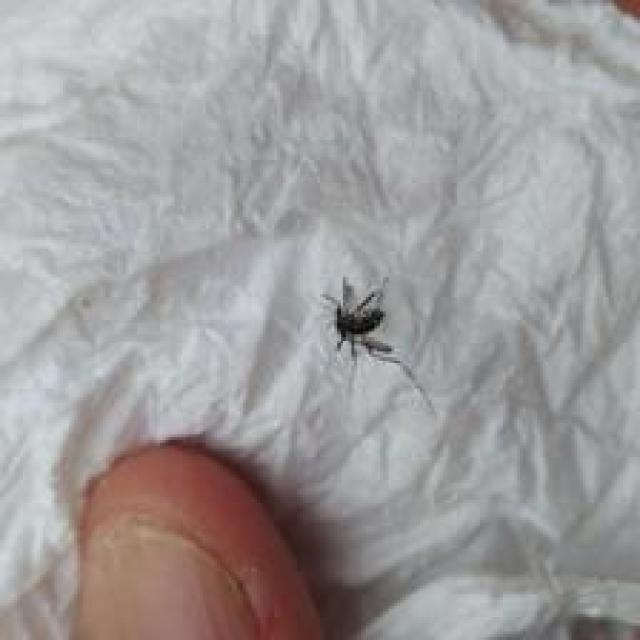Aedes albopictus: (318, 273, 436, 416)
